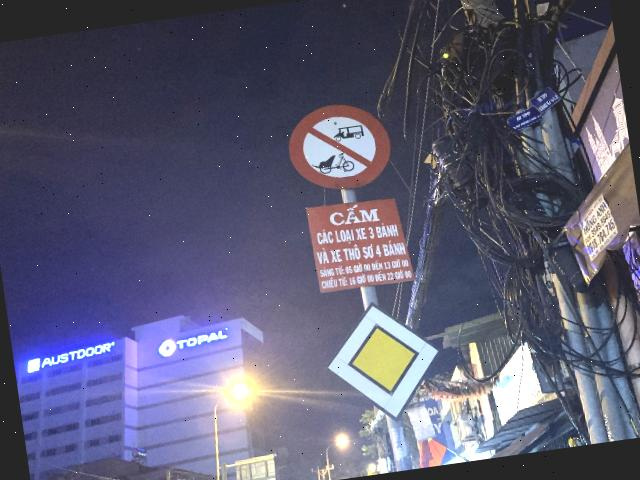bat-dau-duong-uu-tien: (317, 292, 450, 430)
cam-xe-3-banh-xe-tho-so-4-banh: (284, 98, 396, 198)
